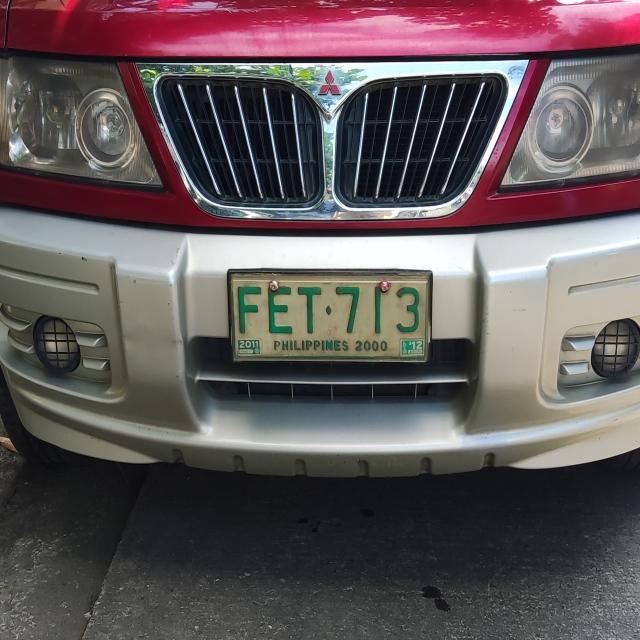plate: (226, 268, 433, 366)
